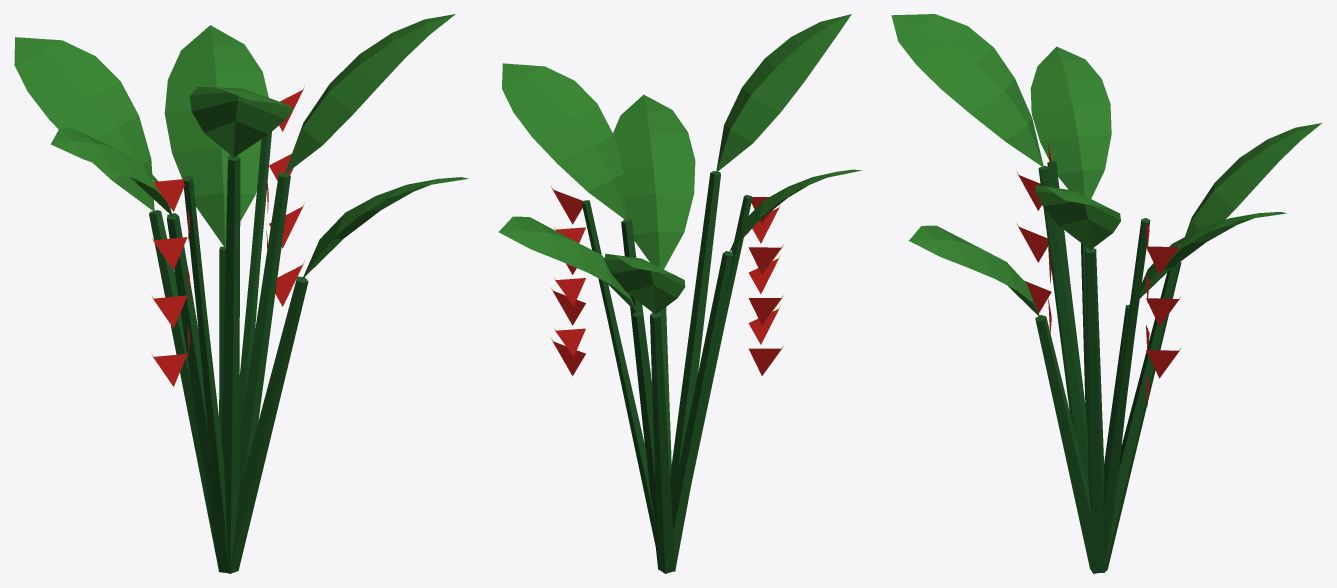
File: heliconia.glb
3 renders of one model, left to right at view 1: azimuth 30°, elevation 25°; view 2: azimuth 150°, elevation 25°; view 3: azimuth 270°, elevation 25°, orthographic. The views are drawn at different scales.
Visible parts, largest first — view 1: heliconia; view 2: heliconia; view 3: heliconia.
Part boxes in pixels (x1=…): heliconia: x1=14, y1=14, x2=468, y2=573; heliconia: x1=498, y1=14, x2=862, y2=573; heliconia: x1=891, y1=14, x2=1321, y2=573.
Bounding box in the file's own units: 1.77 × 2.38 × 1.81.
